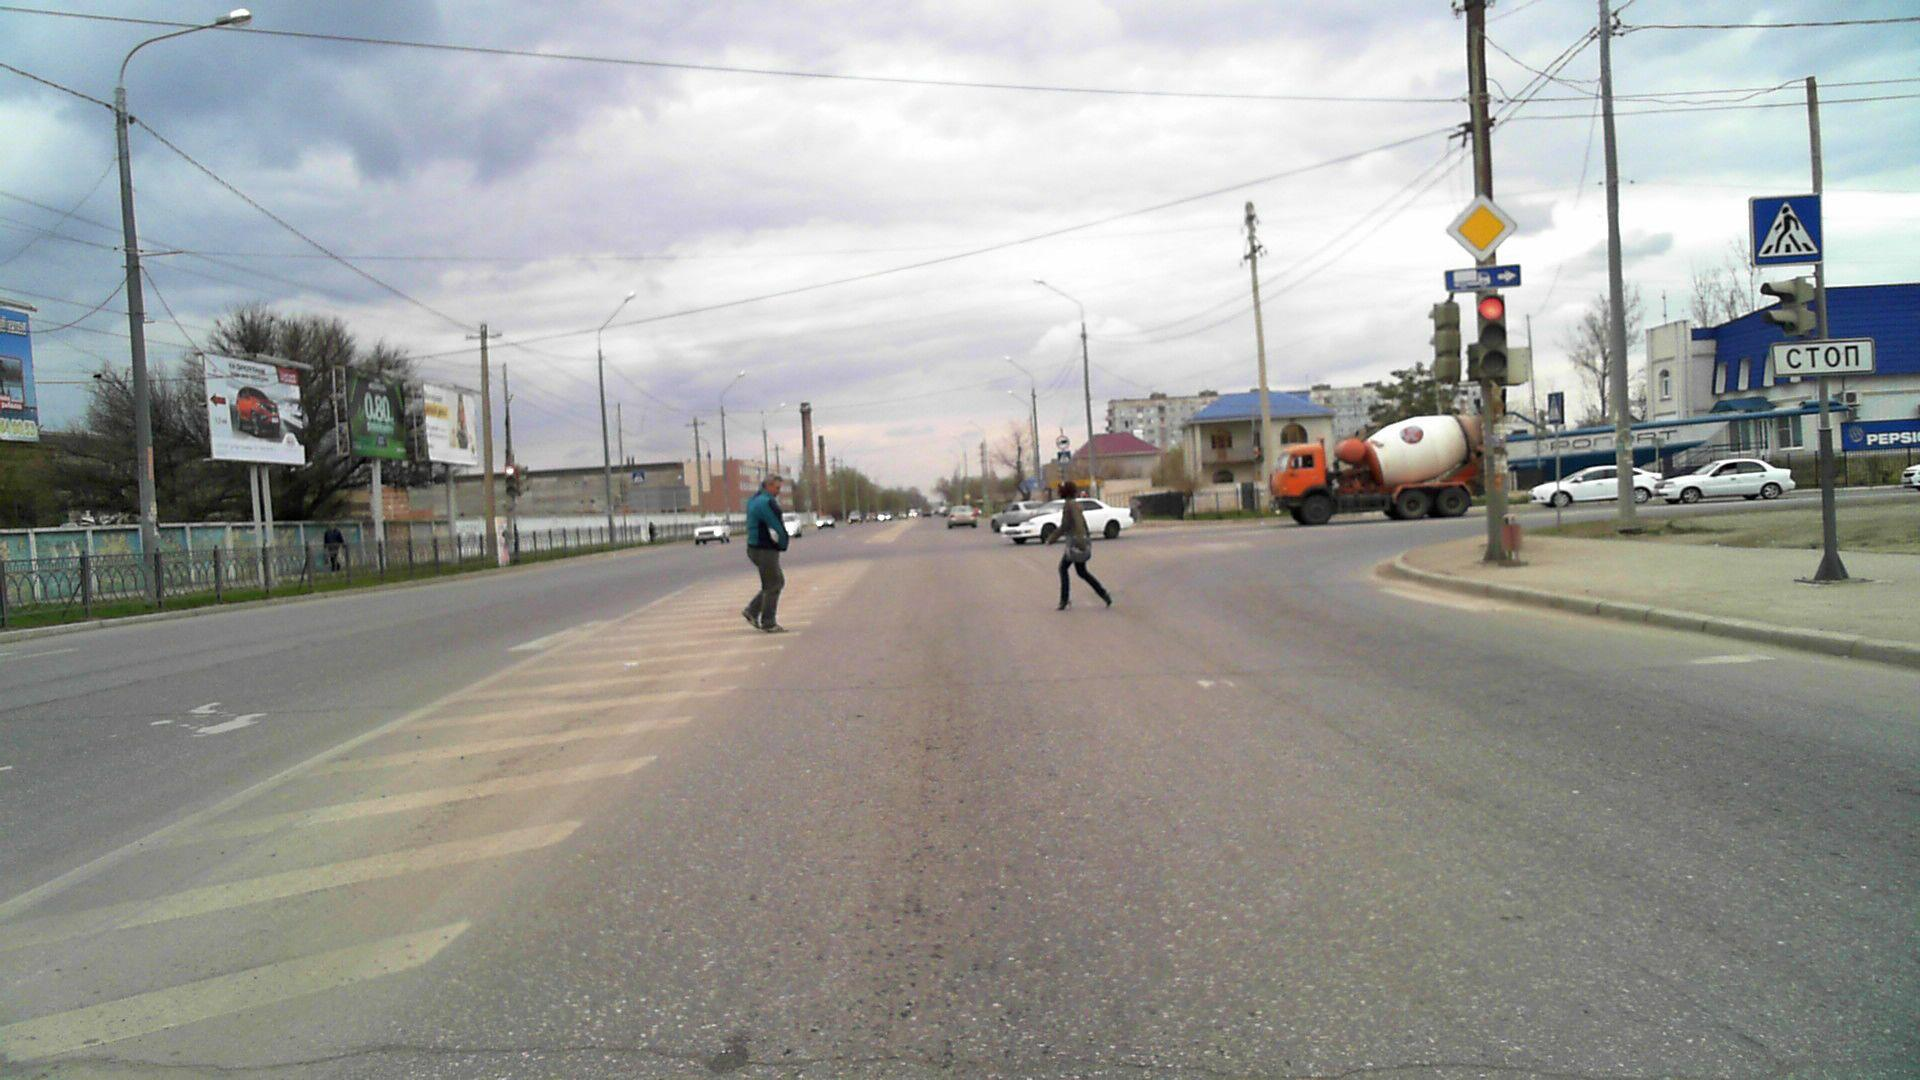2_1: (1444, 194, 1516, 261)
3_4: (1056, 434, 1071, 452)
5_19_1: (1753, 198, 1822, 262), (1056, 452, 1071, 464)
5_19_2: (630, 468, 645, 487)
6_15_2: (1447, 264, 1524, 294)
6_16: (1771, 339, 1876, 373)
